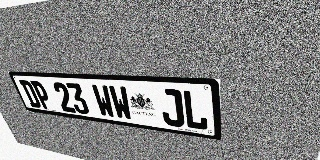2: (52, 82, 76, 113)
3: (65, 83, 90, 115)
D: (19, 80, 42, 108)
J: (158, 88, 185, 128)
L: (182, 90, 208, 131)
P: (30, 81, 54, 110)
W: (108, 85, 134, 121), (91, 84, 116, 118)
